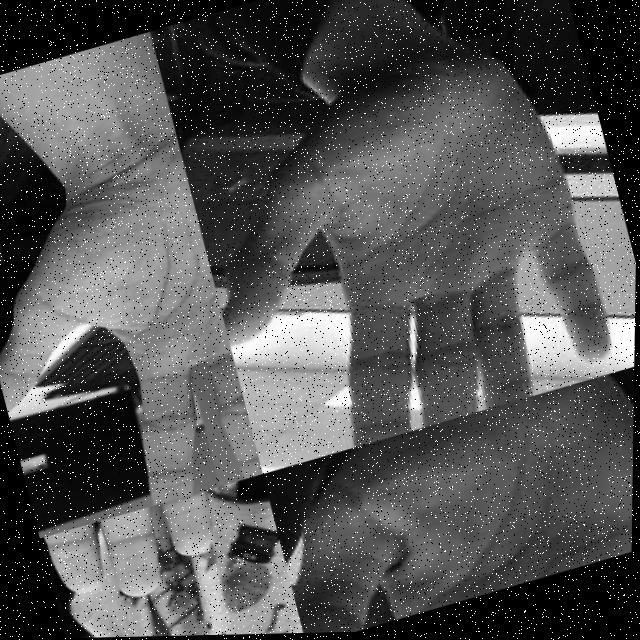no-gloves: (172, 29, 633, 476), (0, 113, 268, 539), (262, 362, 636, 635), (40, 474, 287, 624)
